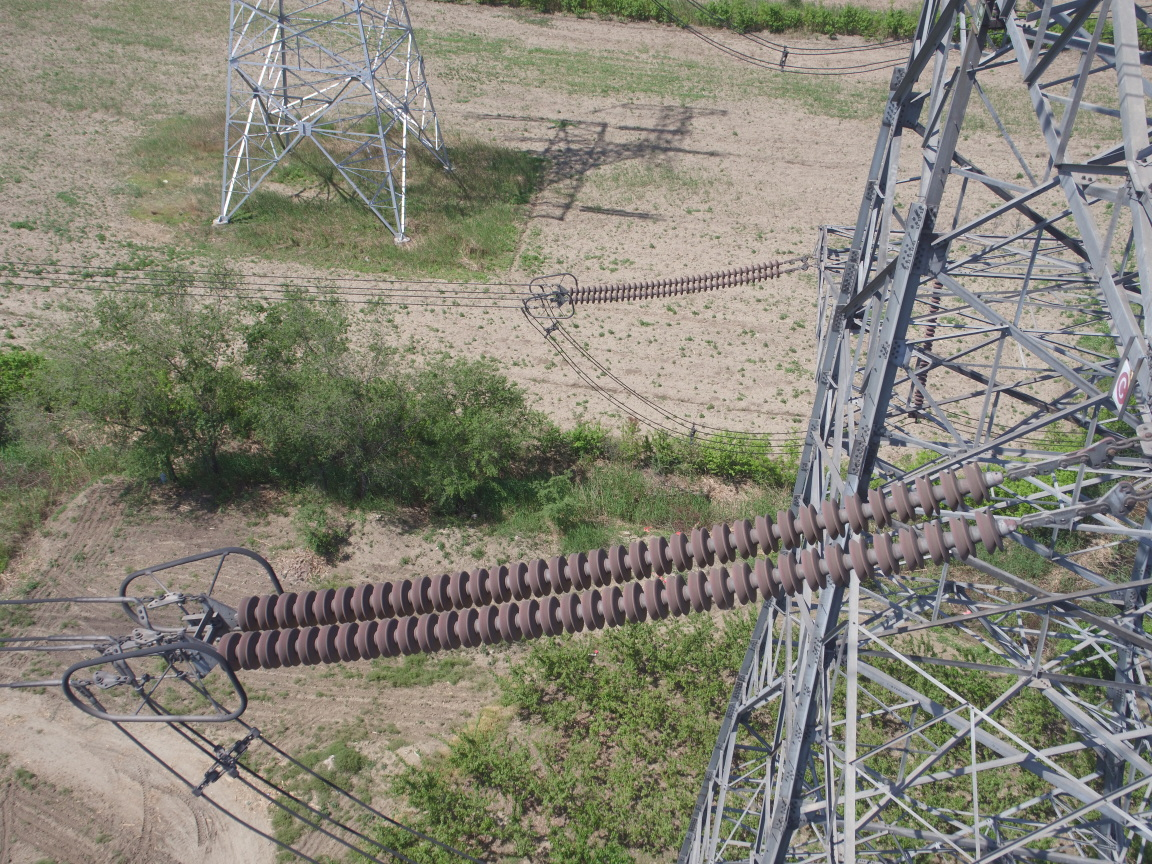insulator: (204, 453, 1055, 678), (562, 258, 795, 305)
